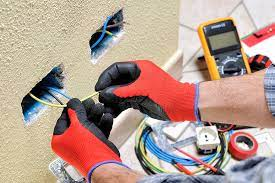gloves: (98, 56, 197, 129), (49, 103, 119, 170)
